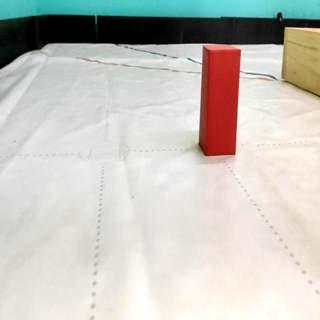redbox: (198, 43, 242, 156)
